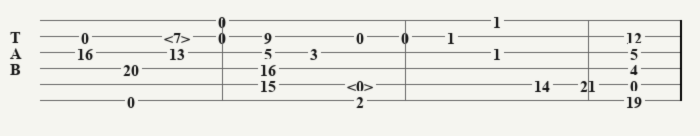0: (81, 29, 93, 44), (127, 93, 139, 108), (218, 29, 230, 44), (218, 13, 230, 28), (356, 29, 368, 44), (401, 29, 413, 44), (630, 77, 642, 92)
1: (447, 29, 459, 44), (493, 45, 505, 60), (493, 13, 505, 28)
12: (626, 29, 646, 44)
13: (169, 45, 189, 60)
14: (534, 77, 554, 92)
15: (260, 77, 280, 92)
16: (77, 45, 97, 60), (260, 61, 280, 76)
19: (626, 93, 646, 108)
2: (356, 93, 368, 108)
20: (123, 61, 143, 76)
21: (580, 77, 600, 92)
3: (310, 45, 322, 60)
4: (630, 61, 642, 76)
5: (264, 45, 276, 60), (630, 45, 642, 60)
9: (264, 29, 276, 44)
harmonic: (164, 29, 194, 44), (347, 77, 377, 92)
